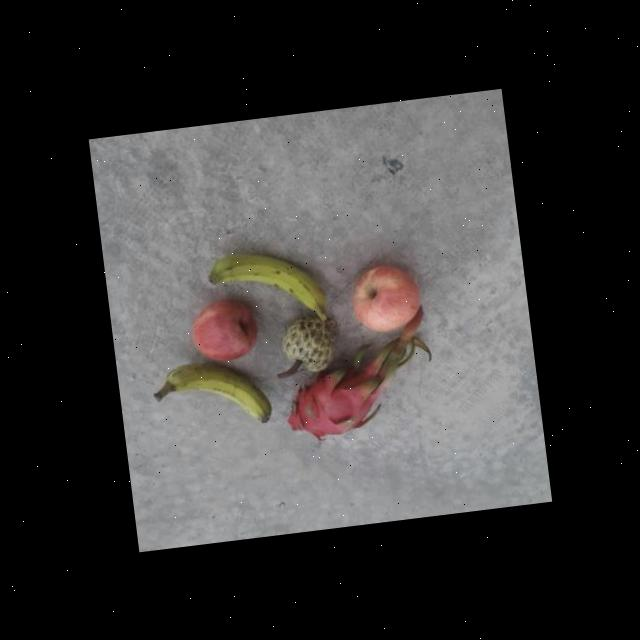Sakya fruit: (274, 310, 340, 373)
apple: (341, 262, 429, 338), (184, 294, 258, 369)
banana: (203, 242, 326, 328), (156, 354, 273, 438)
pitaya: (282, 362, 384, 440)
